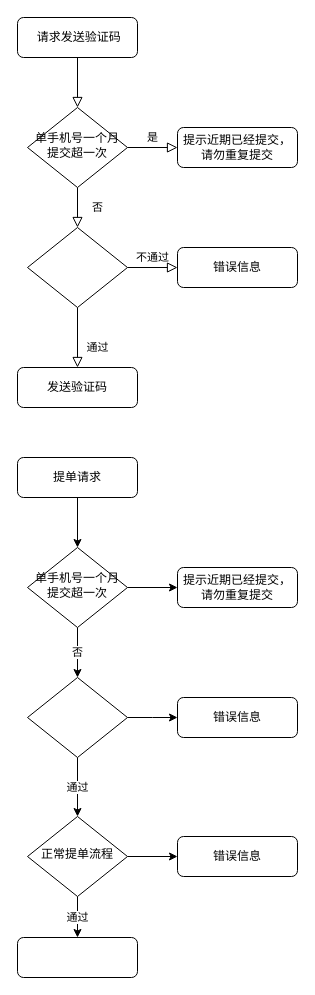
The diagram is 315 pixels wide and 995 high, and some of its shapes have lost their labels. The shapes that lost their labels are listed below. From the top down, each one's centre as x and y in pixels, then its label:
At [77,267]: "触达策略校验".
At [77,717]: "验证手机号+验证码".
At [77,957]: "将手机号加入一个月内重复名单".
